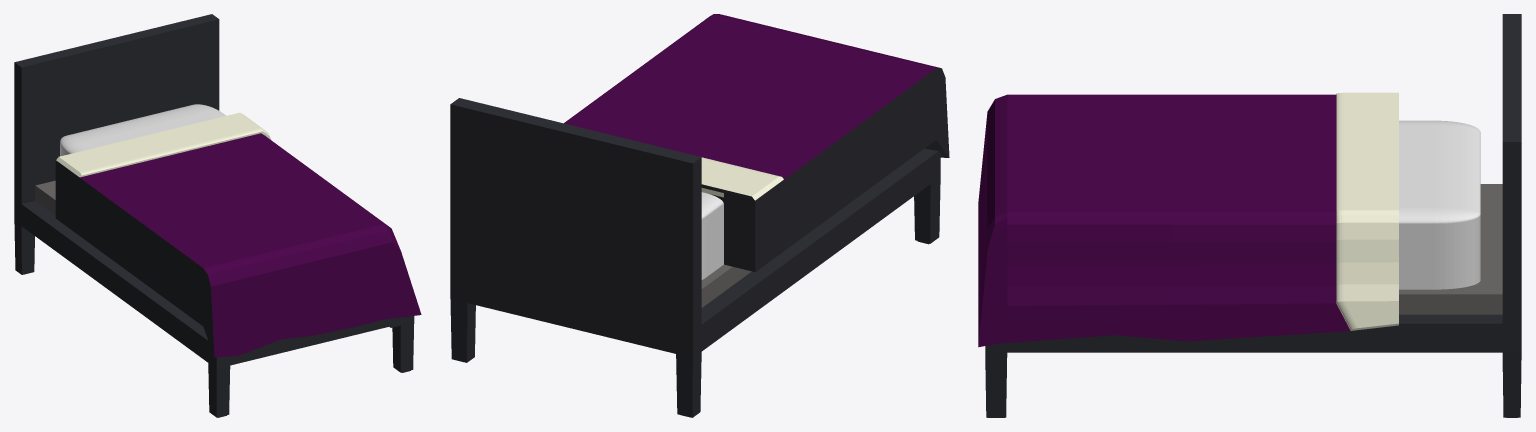
File: Bed.fbx
3 renders of one model, left to right at view 1: azimuth 30°, elevation 25°; view 2: azimuth 150°, elevation 25°; view 3: azimuth 270°, elevation 25°, orthographic. The views are drawn at different scales.
Visible parts, largest first — view 1: Bed; view 2: Bed; view 3: Bed.
Part boxes in pixels (bbox=[...]): Bed: bbox=[14, 14, 421, 417]; Bed: bbox=[450, 14, 949, 417]; Bed: bbox=[978, 14, 1521, 417].
Bounding box in the file's own units: 724 × 682 × 1210.
